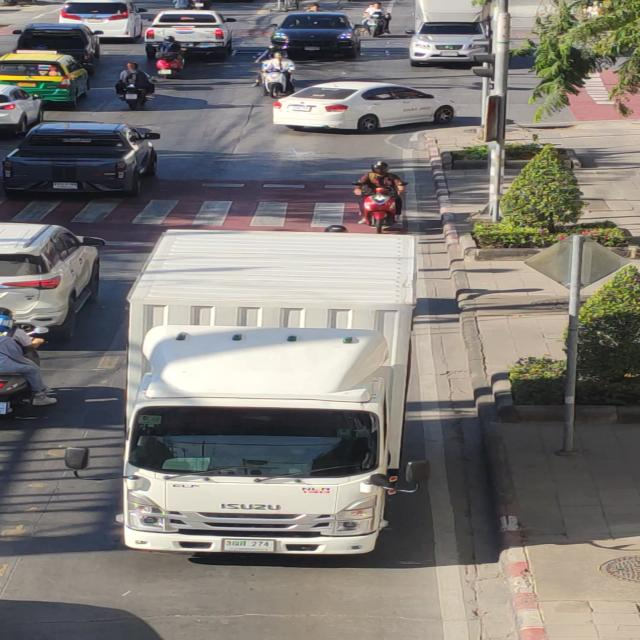car: (119, 225, 431, 558)
